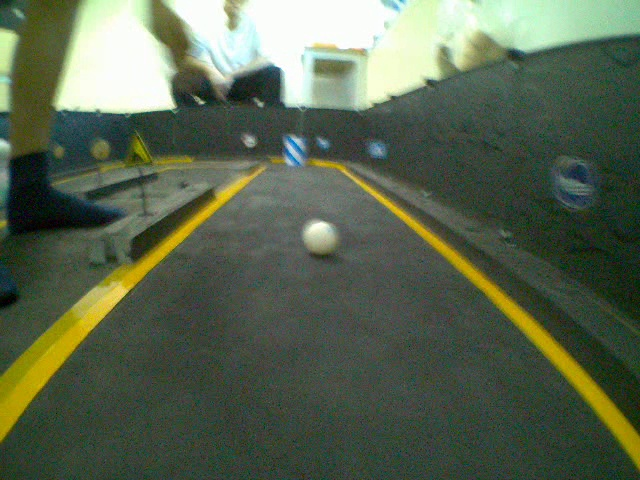ball: (305, 219, 340, 259)
bucket: (285, 133, 306, 166)
